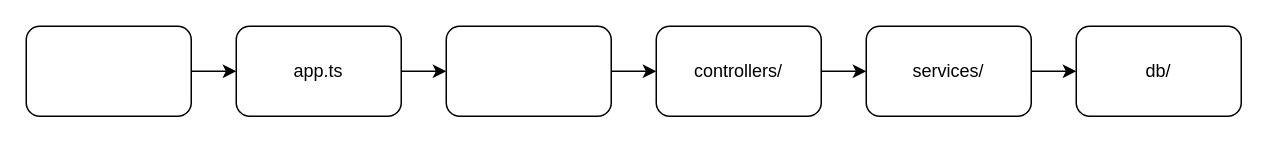
This 1268x143 diagram has some shape labels left out. Here are the shapes that lost their labels. From the top down, the centre of each, then its label:
At pixel 108 70: "server.ts".
At pixel 528 70: "routes/".
